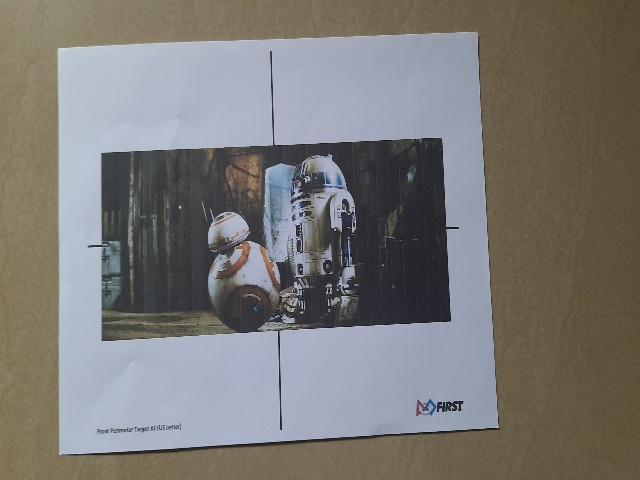fpt2: (69, 96, 484, 428)
